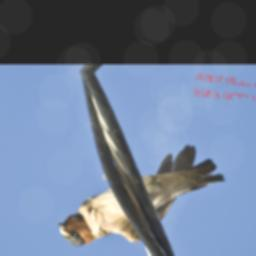Swallow: (52, 130, 232, 256)
